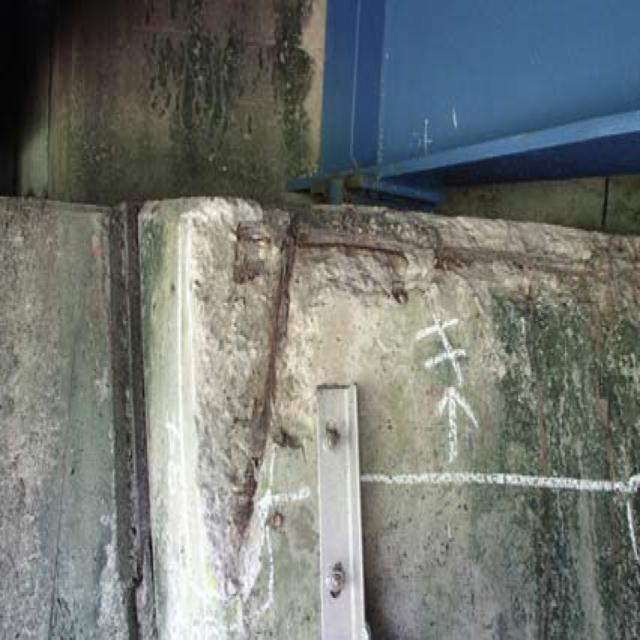spalling: (193, 196, 308, 590), (327, 197, 640, 322)
